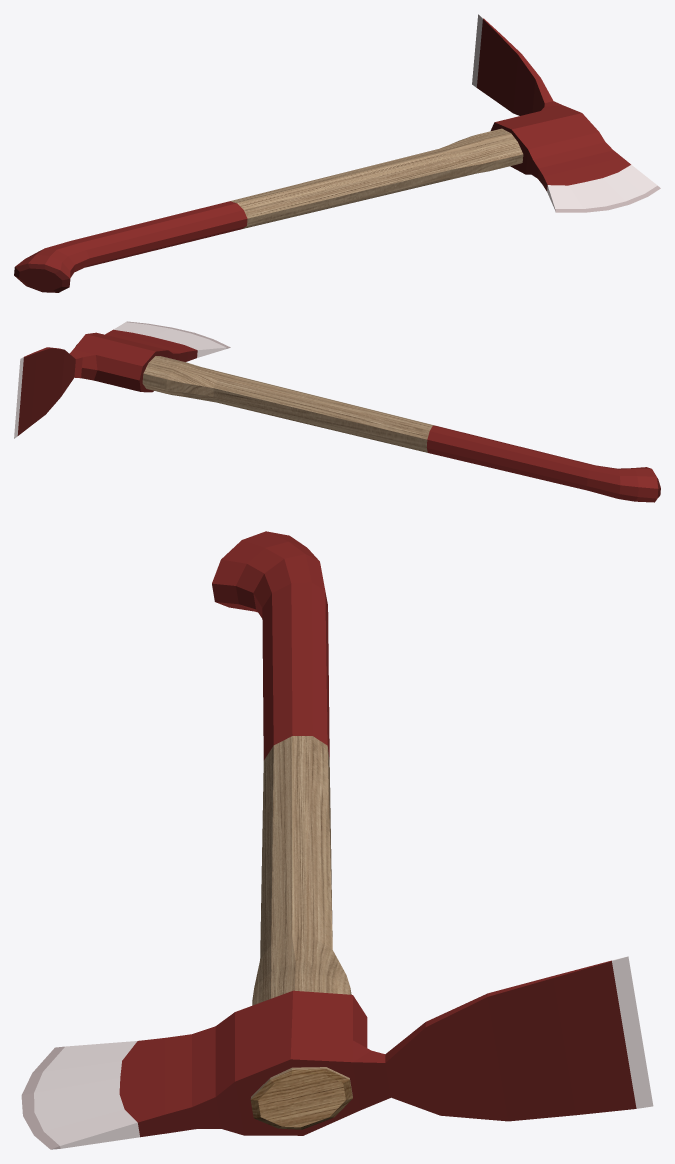
The model's file is WorldItem_PulaskiAxe.fbx.
The picture shows the model from 3 angles, top to bottom: view 1: azimuth 30°, elevation 25°; view 2: azimuth 150°, elevation 25°; view 3: azimuth 270°, elevation 25°; orthographic projection. The views are drawn at different scales.
Visible parts, largest first — view 1: ZomboidPulaskiAxe; view 2: ZomboidPulaskiAxe; view 3: ZomboidPulaskiAxe.
Boxes of the visible parts, x1=… form: ZomboidPulaskiAxe: x1=14, y1=14, x2=660, y2=292; ZomboidPulaskiAxe: x1=14, y1=321, x2=660, y2=502; ZomboidPulaskiAxe: x1=21, y1=531, x2=653, y2=1149.
Bounding box in the file's own units: 0.538 × 0.0703 × 0.251.
